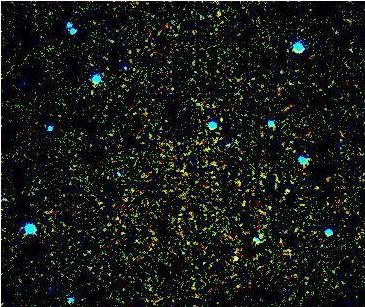star: (204, 105, 234, 135)
